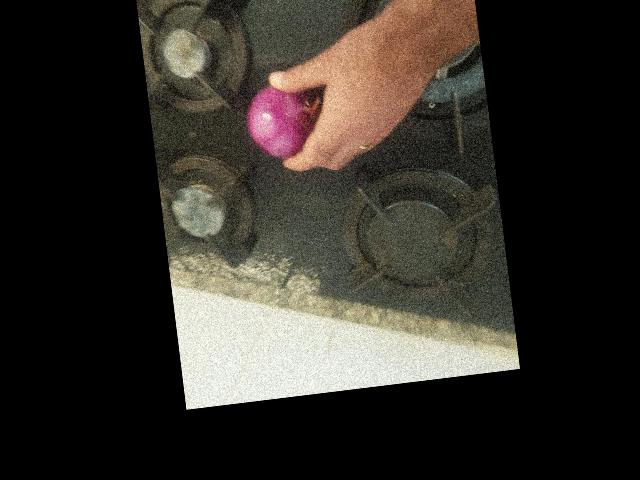onion: (241, 74, 325, 160)
